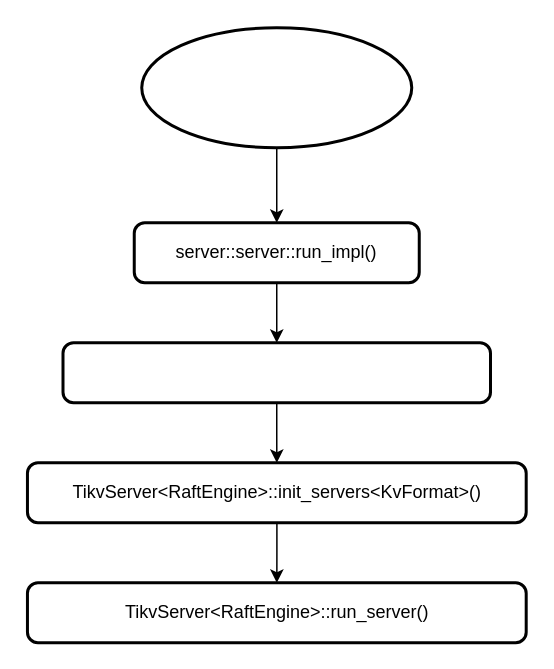
Image size: 554x669. Some labels were removed from this diagram. The centre of each missing label's shape, as x and y in pixels:
"server::server::run_tikv()" belongs at (276,87).
"TikvServer<RaftEngine>::init<KvFormat>()" belongs at (276,372).
